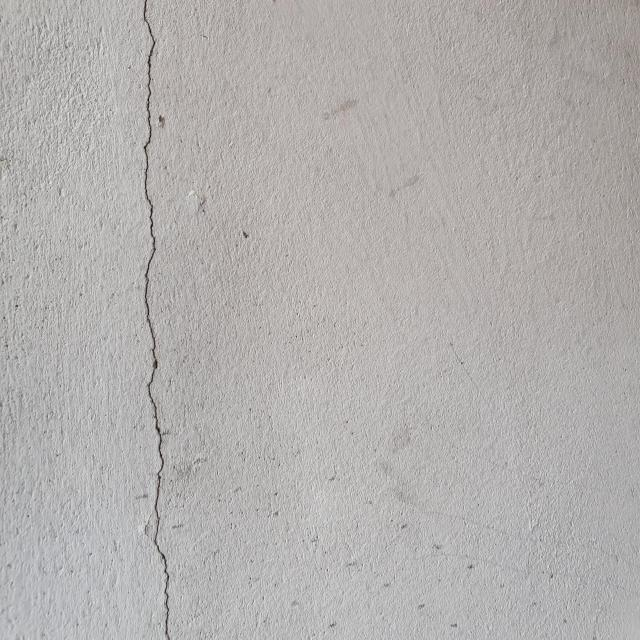SurfaceCrack: (93, 1, 217, 640)
